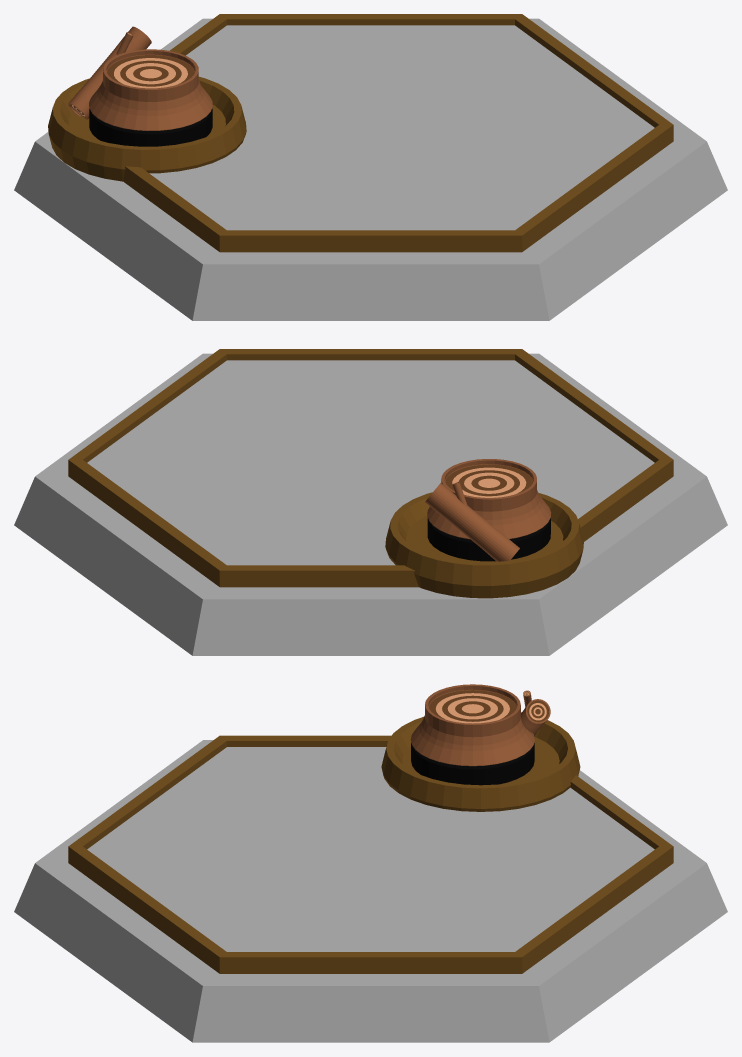
File: sumber board.fbx
3 renders of one model, top to bottom at view 1: azimuth 30°, elevation 25°; view 2: azimuth 150°, elevation 25°; view 3: azimuth 270°, elevation 25°, orthographic.
Parts seen in each view (by area): view 1: sumber board; view 2: sumber board; view 3: sumber board.
Part boxes in pixels (<box>): sumber board: <box>14,14,727,320</box>; sumber board: <box>14,349,727,655</box>; sumber board: <box>14,684,727,1042</box>.
Bounding box in the file's own units: 315 × 79.08 × 364.
